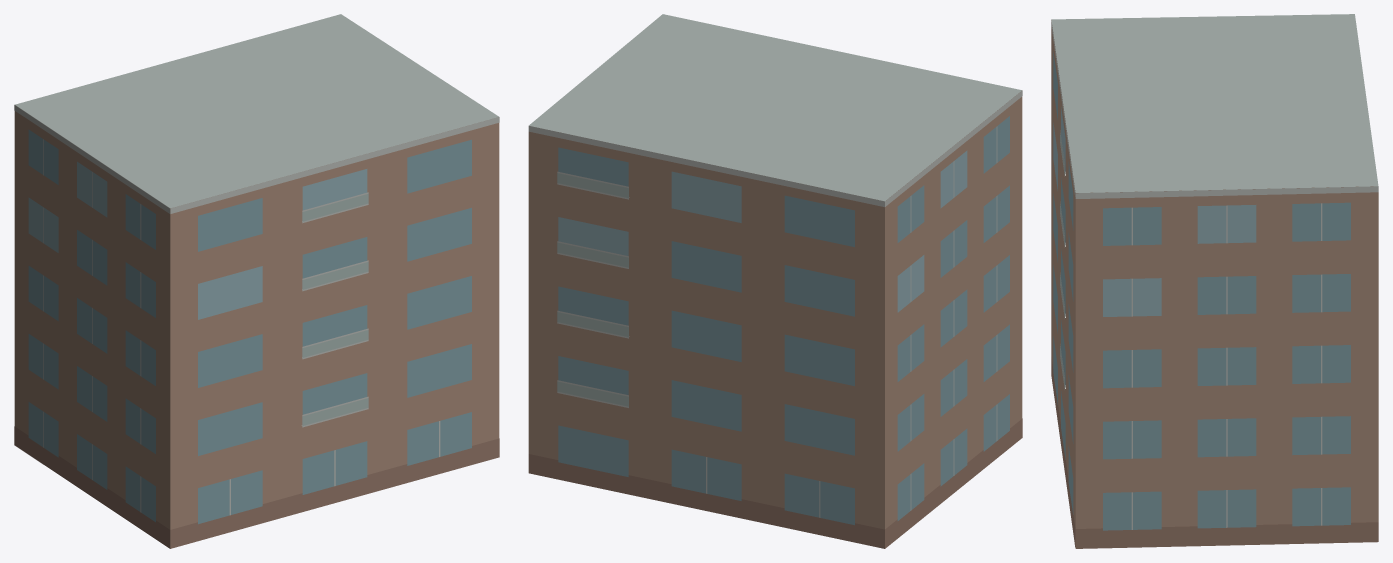
Rendered from survey-upis-32632445.glb.
The picture shows the model from 3 angles, left to right: view 1: azimuth 30°, elevation 25°; view 2: azimuth 150°, elevation 25°; view 3: azimuth 270°, elevation 25°; orthographic projection. The views are drawn at different scales.
Visible parts, largest first — view 1: survey-upis-32632445.tmp; view 2: survey-upis-32632445.tmp; view 3: survey-upis-32632445.tmp.
Boxes of the visible parts, x1=… form: survey-upis-32632445.tmp: x1=14, y1=14, x2=499, y2=548; survey-upis-32632445.tmp: x1=528, y1=14, x2=1022, y2=548; survey-upis-32632445.tmp: x1=1051, y1=14, x2=1378, y2=548.
Bounding box in the file's own units: 15.56 × 14.4 × 12.01.
